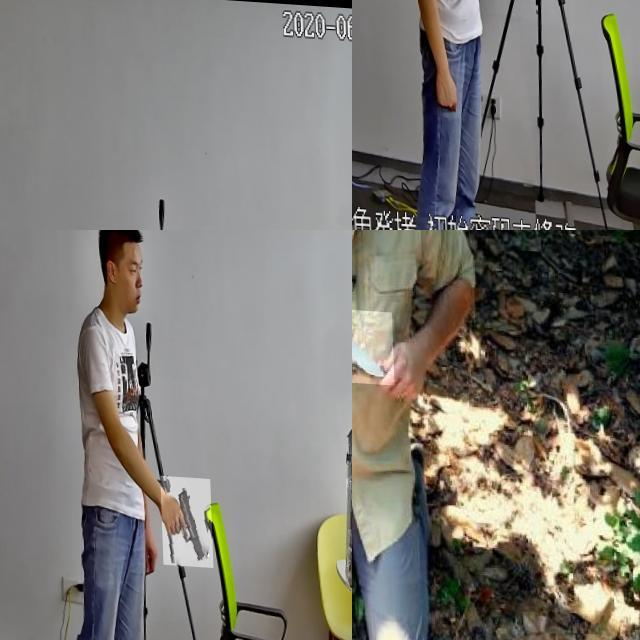-: (352, 303, 394, 380)
gun-knife-thesis - v11 Yolov5 augmented: (157, 471, 210, 563), (0, 86, 24, 183), (545, 0, 598, 42)
